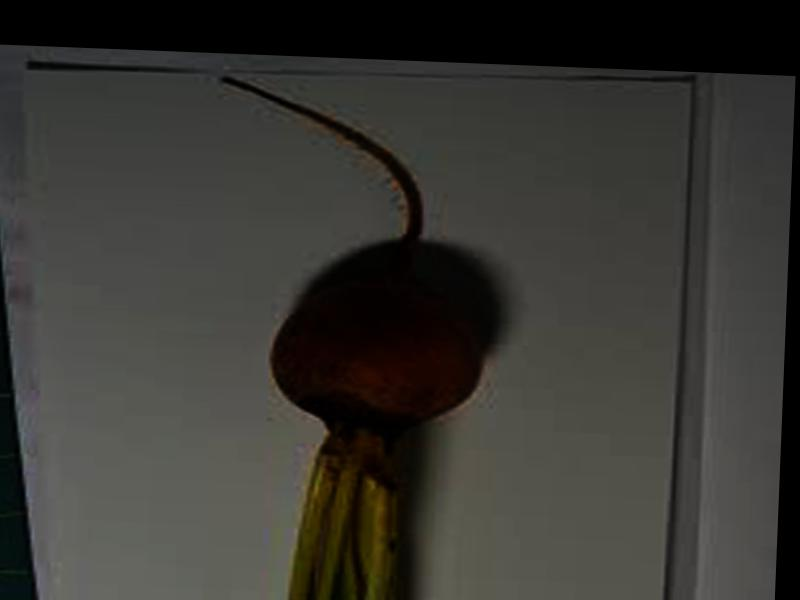Beet: (201, 76, 491, 600)
